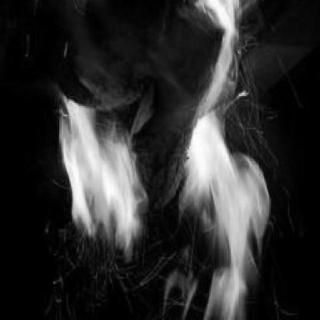Fire: (12, 6, 306, 317)
